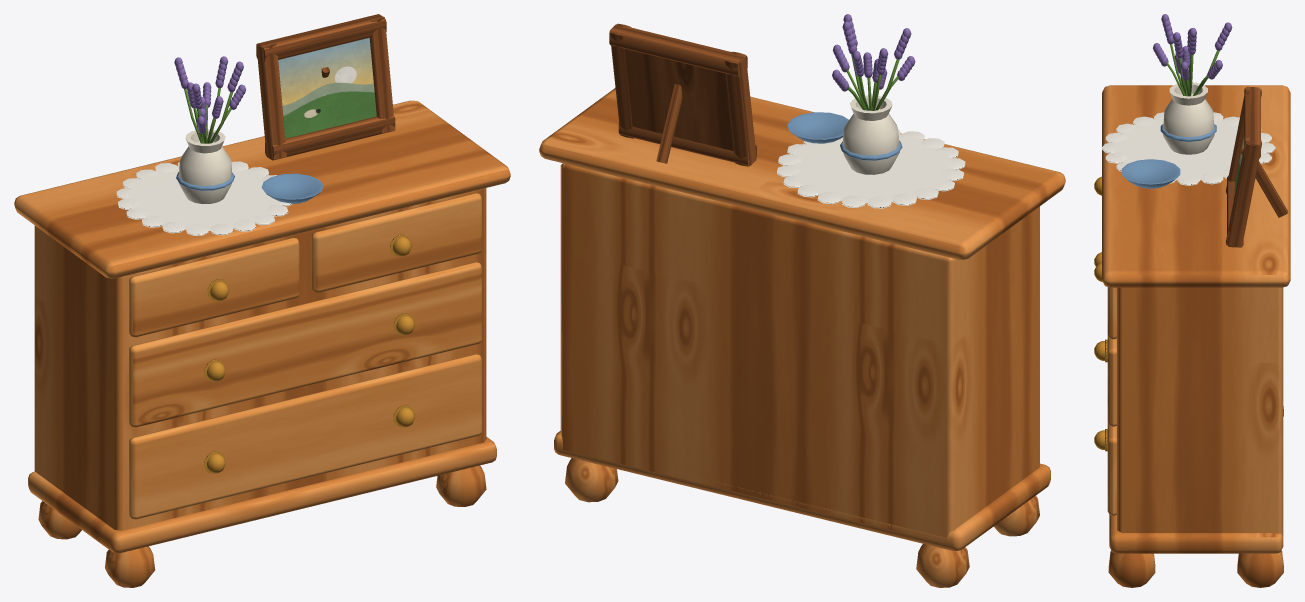
Rendered from dresser.glb.
The picture shows the model from 3 angles, left to right: view 1: azimuth 30°, elevation 25°; view 2: azimuth 150°, elevation 25°; view 3: azimuth 270°, elevation 25°; orthographic projection. The views are drawn at different scales.
Visible parts, largest first — view 1: model; view 2: model; view 3: model.
Part boxes in pixels (x1,y1,x2,y2): model: [14, 14, 510, 587]; model: [539, 14, 1065, 587]; model: [1094, 14, 1290, 587].
Bounding box in the file's own units: 1.2 × 1.33 × 0.5203.
Materials: 11 (4 with a texture image).
